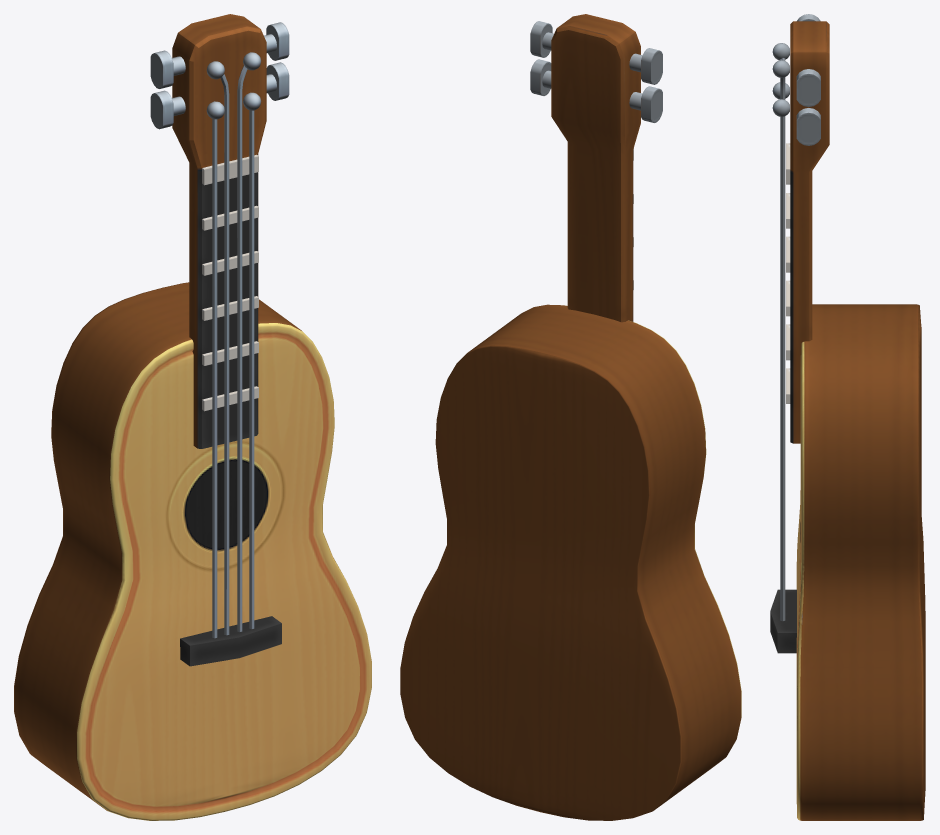
Rendered from guitar_brown.fbx.
3 views of the same model, side by side, from view 1: azimuth 30°, elevation 25°; view 2: azimuth 150°, elevation 25°; view 3: azimuth 270°, elevation 25° (orthographic). The views are drawn at different scales.
Parts seen in each view (by area): view 1: guitar_brown; view 2: guitar_brown; view 3: guitar_brown.
Part boxes in pixels (left/top/right/bottom): guitar_brown: left=14, top=14, right=371, bottom=820; guitar_brown: left=400, top=14, right=741, bottom=820; guitar_brown: left=770, top=14, right=925, bottom=820.
Size of the model in its own units: 0.399 by 1.01 by 0.1876.
